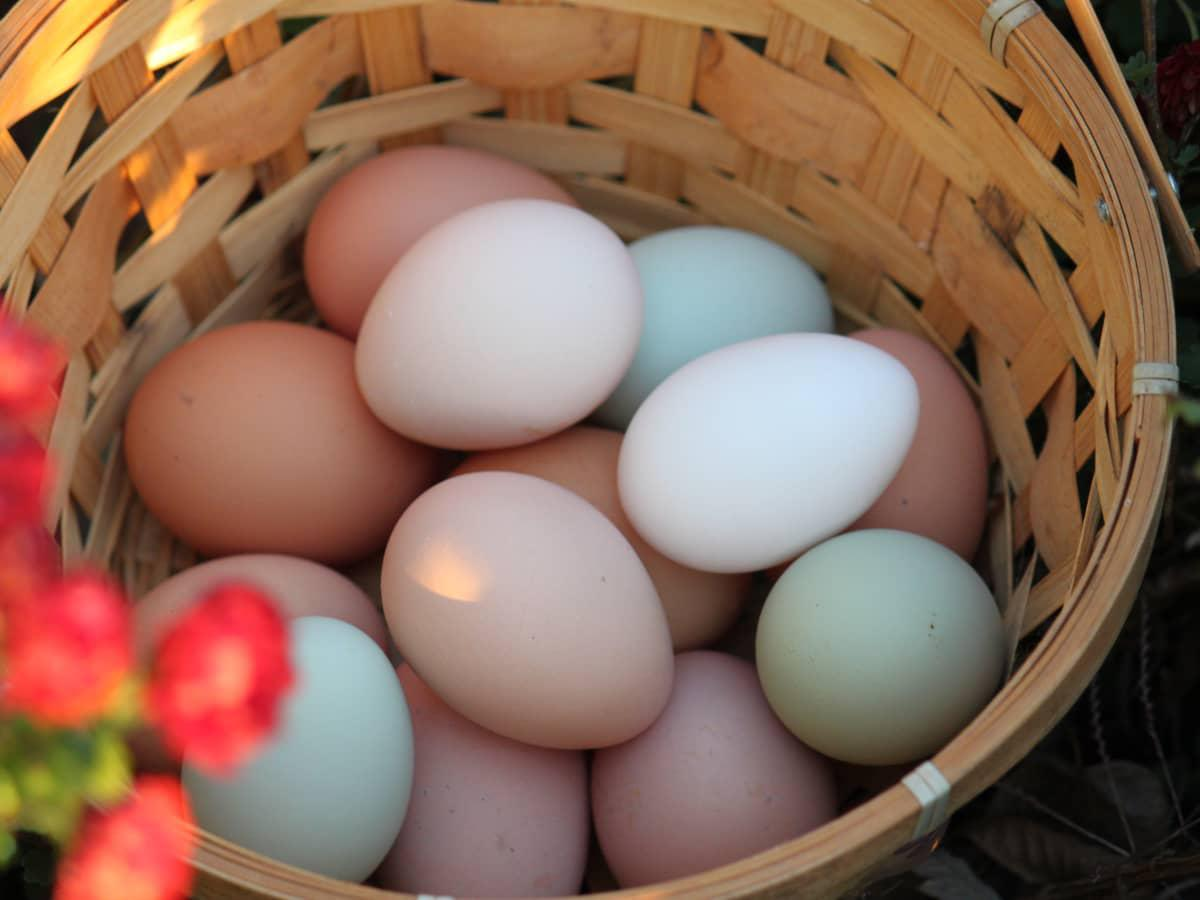egg: (365, 465, 684, 754), (346, 182, 651, 461), (120, 315, 443, 578), (610, 324, 927, 574), (749, 520, 1017, 779), (183, 617, 414, 883), (589, 651, 832, 894), (303, 142, 590, 332), (605, 225, 837, 421)
